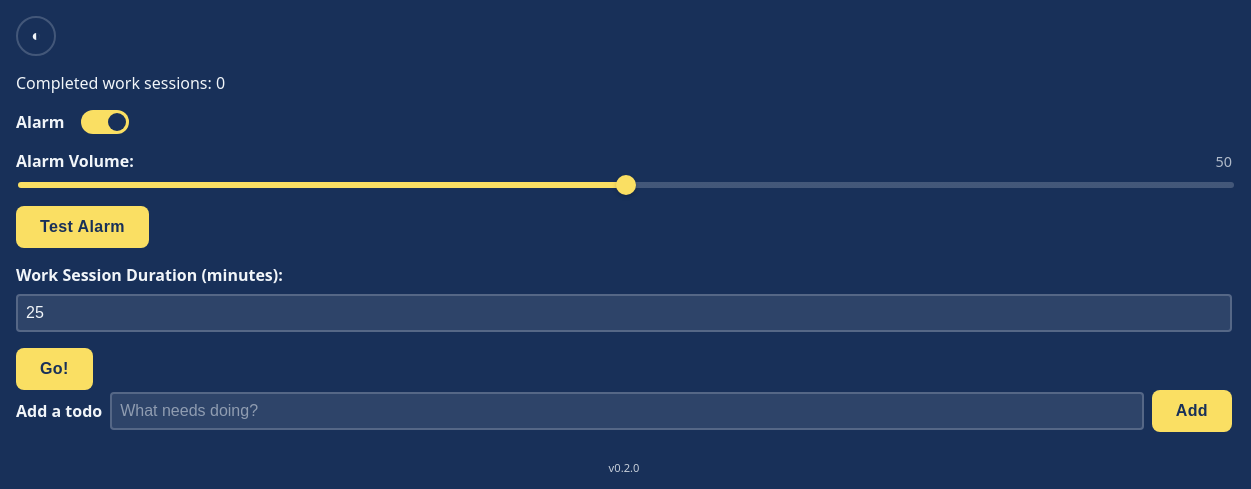
it: App › starts a countdown and hides the config screen
The width and height of the screenshot is (1251, 489).
Type "1" into the number field labelled "Work Session Duration (minutes):".
click(624, 313); type("1")  # box top-left (16, 294), bottom-right (1232, 332)
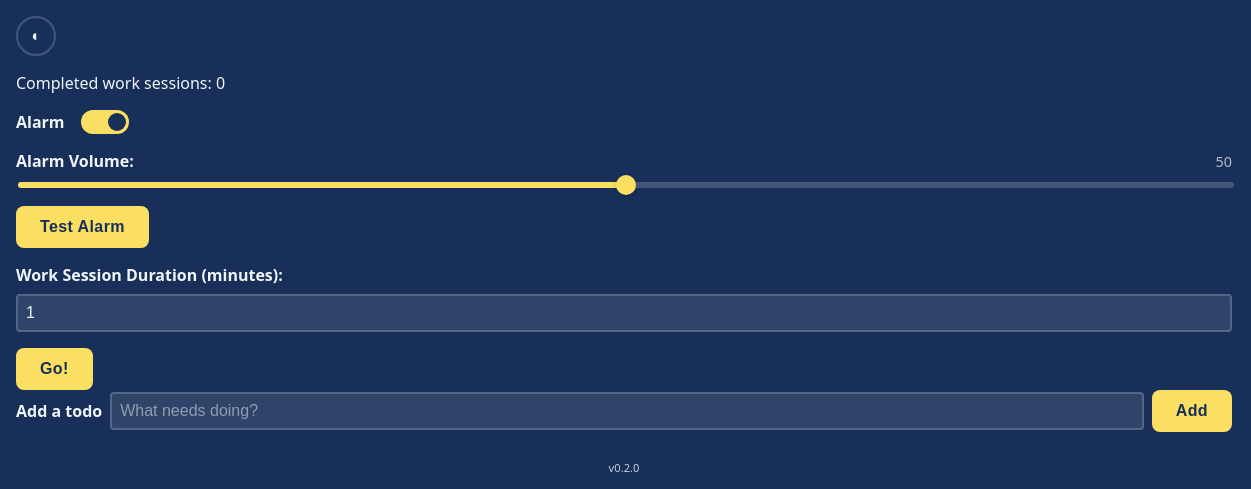
Click the button "Go!".
click(54, 369)  # box top-left (16, 348), bottom-right (93, 390)
Wait 10000 ms
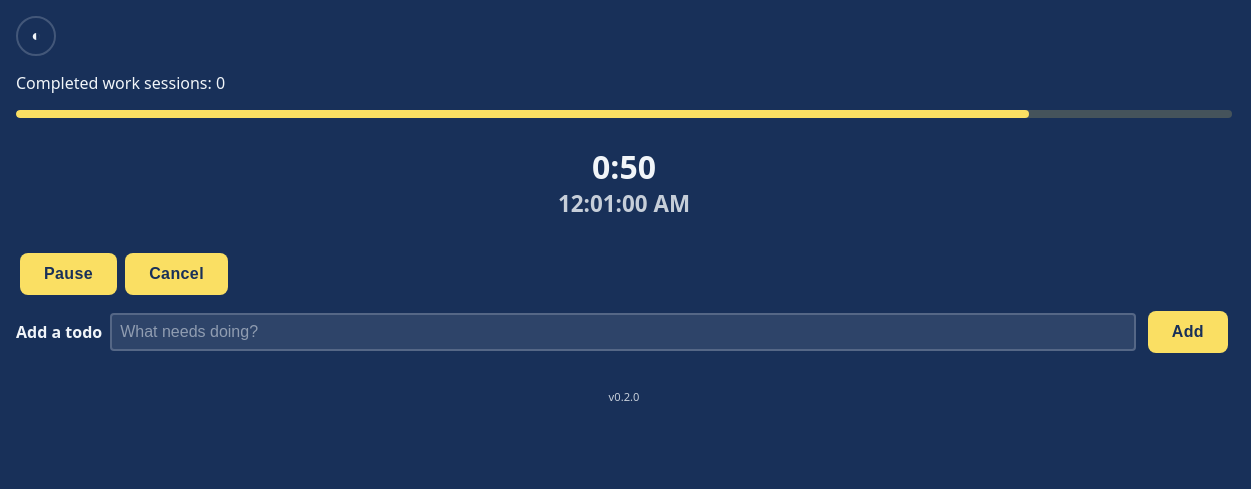
Check: the heading "0:50 12:01:00 AM" is shown, box top-left (558, 144), bottom-right (690, 218)
Check: the button "Pause" is shown, box top-left (20, 253), bottom-right (117, 295)
Check: the button "Go!" is gone
